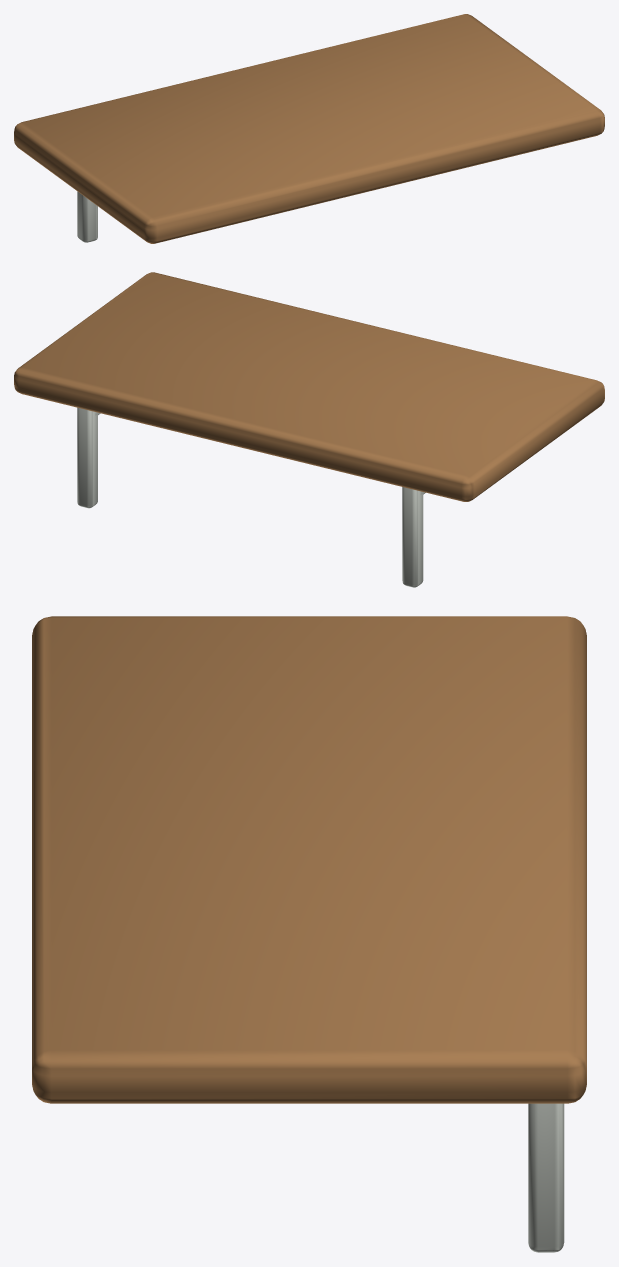
File: urban-floating-shelf-v1.glb
3 renders of one model, top to bottom at view 1: azimuth 30°, elevation 25°; view 2: azimuth 150°, elevation 25°; view 3: azimuth 270°, elevation 25°, orthographic. The views are drawn at different scales.
Parts seen in each view (by area): view 1: Rounded floating shelf, Shelf bracket upright; view 2: Rounded floating shelf, Shelf bracket upright, Shelf bracket upright.001; view 3: Rounded floating shelf, Shelf bracket upright.001.
Boxes of the visible parts, left/top/right/bottom form: Rounded floating shelf: left=14, top=14, right=604, bottom=243; Shelf bracket upright: left=77, top=191, right=97, bottom=242; Rounded floating shelf: left=14, top=272, right=604, bottom=501; Shelf bracket upright: left=402, top=487, right=423, bottom=587; Shelf bracket upright.001: left=77, top=407, right=97, bottom=508; Rounded floating shelf: left=32, top=616, right=586, bottom=1103; Shelf bracket upright.001: left=528, top=1103, right=564, bottom=1252.
Size of the model in its own units: 0.65 by 0.1725 by 0.34.
Materials: 2 (2 with a texture image).
